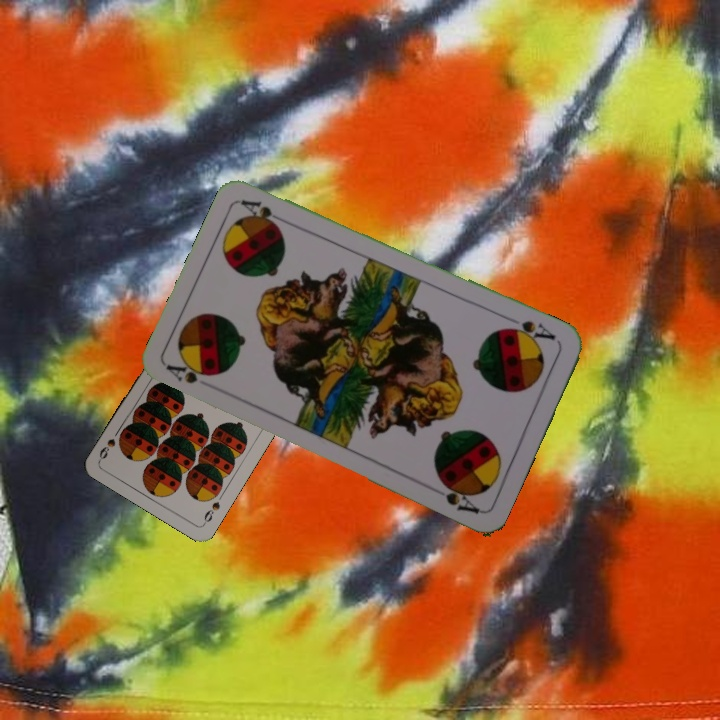S9: (199, 497, 223, 527)
SA: (501, 316, 558, 347), (162, 357, 217, 386)
